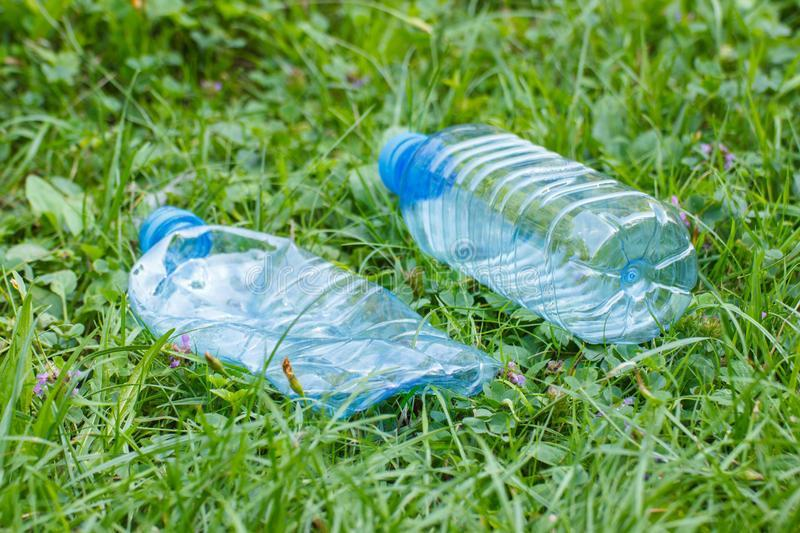bottle: (364, 101, 709, 362), (115, 200, 524, 395)
